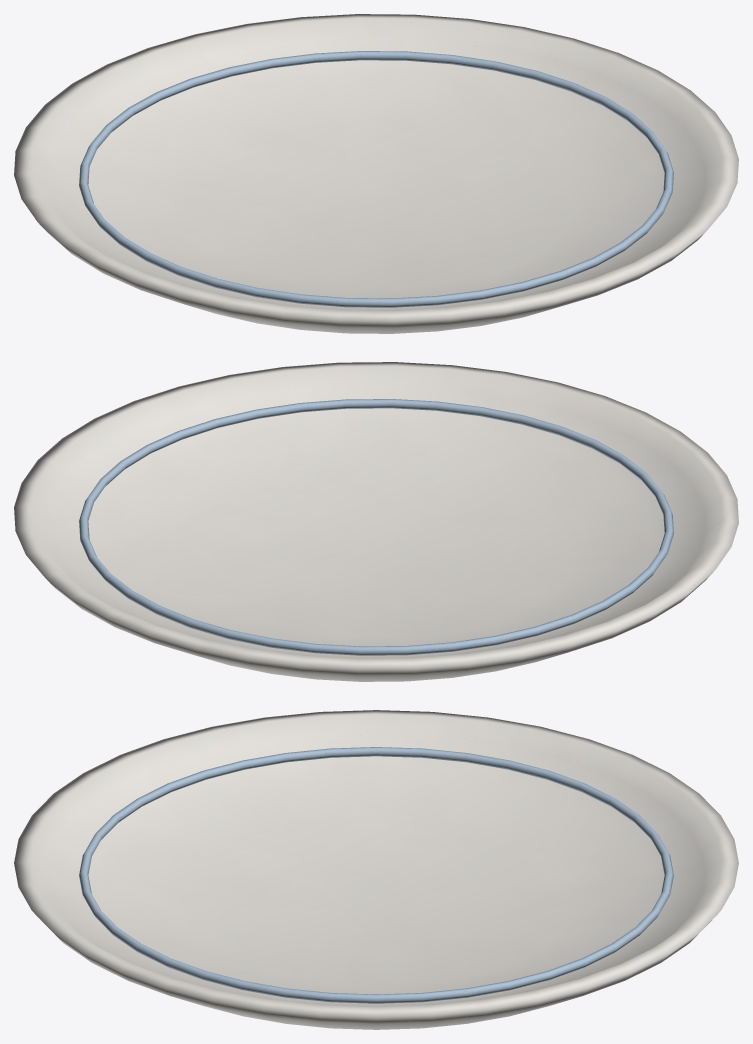
File: trumua-white-plate.glb
3 views of the same model, one above another, from view 1: azimuth 30°, elevation 25°; view 2: azimuth 150°, elevation 25°; view 3: azimuth 270°, elevation 25° (orthographic).
Visible parts, largest first — view 1: trumua-white-plate; view 2: trumua-white-plate; view 3: trumua-white-plate.
Boxes of the visible parts, box(x1,y1,x2,y2) form: trumua-white-plate: box(14, 14, 738, 333); trumua-white-plate: box(14, 362, 738, 681); trumua-white-plate: box(14, 710, 738, 1029).
Bounding box in the file's own units: 0.26 × 0.031 × 0.26.
1 material, 1 textured.
